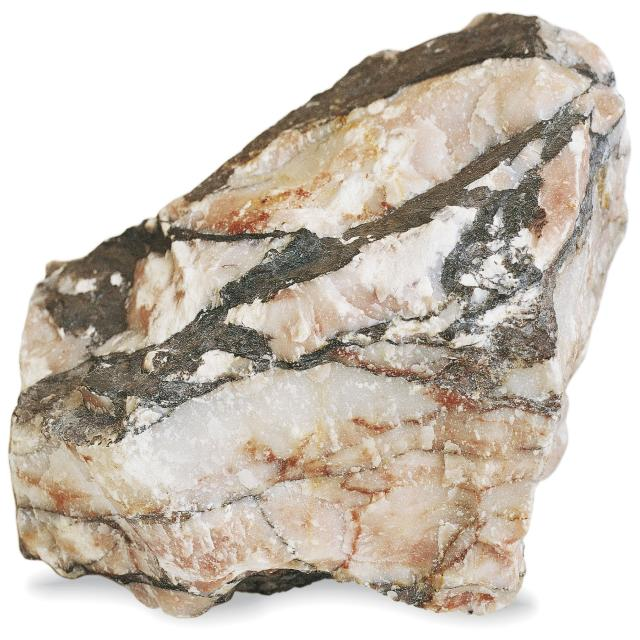Metamorphic: (16, 7, 625, 640)
